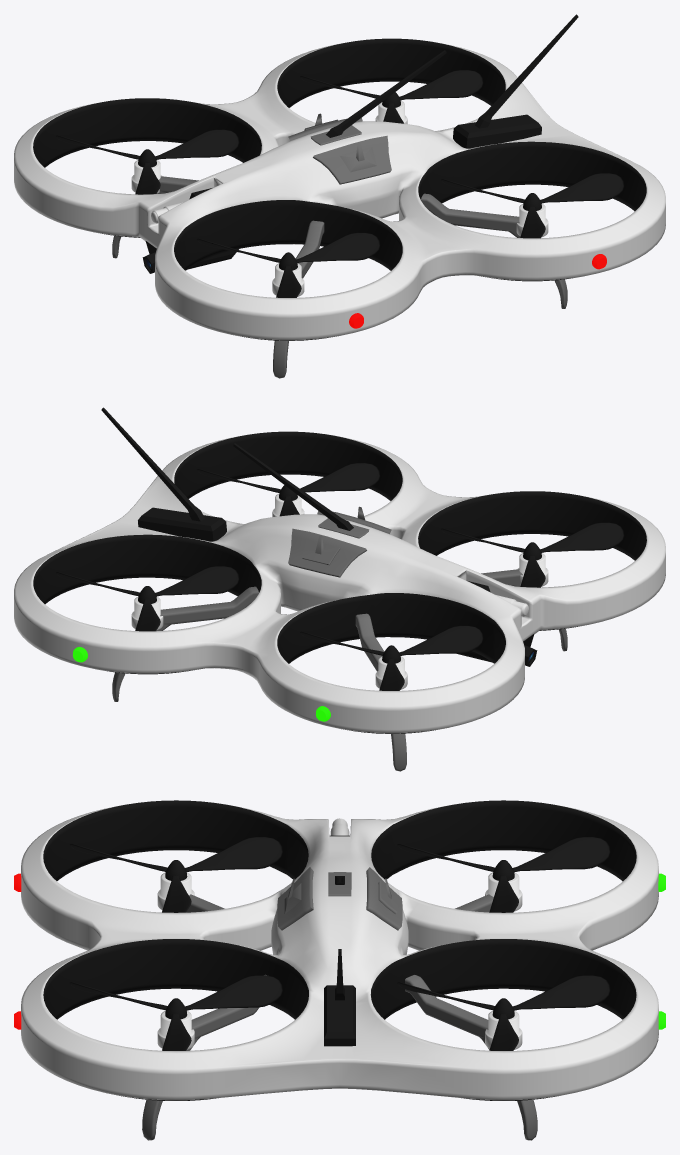
Rendered from Drone2.glb.
The picture shows the model from 3 angles, top to bottom: view 1: azimuth 30°, elevation 25°; view 2: azimuth 150°, elevation 25°; view 3: azimuth 270°, elevation 25°; orthographic projection. The views are drawn at different scales.
Visible parts, largest first — view 1: PropFL.002, Cube.001, Cube.003; view 2: PropFL.002, Cube.001; view 3: PropFL.002, Cube.001, Cylinder.
Boxes of the visible parts, bbox=[...] form: PropFL.002: bbox=[14, 38, 665, 378]; Cube.001: bbox=[326, 14, 578, 148]; Cube.003: bbox=[142, 241, 238, 273]; PropFL.002: bbox=[14, 431, 665, 771]; Cube.001: bbox=[101, 407, 353, 541]; PropFL.002: bbox=[21, 800, 658, 1140]; Cube.001: bbox=[324, 876, 355, 1046]; Cylinder: bbox=[14, 873, 665, 1029].
Bounding box in the file's own units: 1.16 × 0.4925 × 1.19.
Materials: 6 (1 with a texture image).
